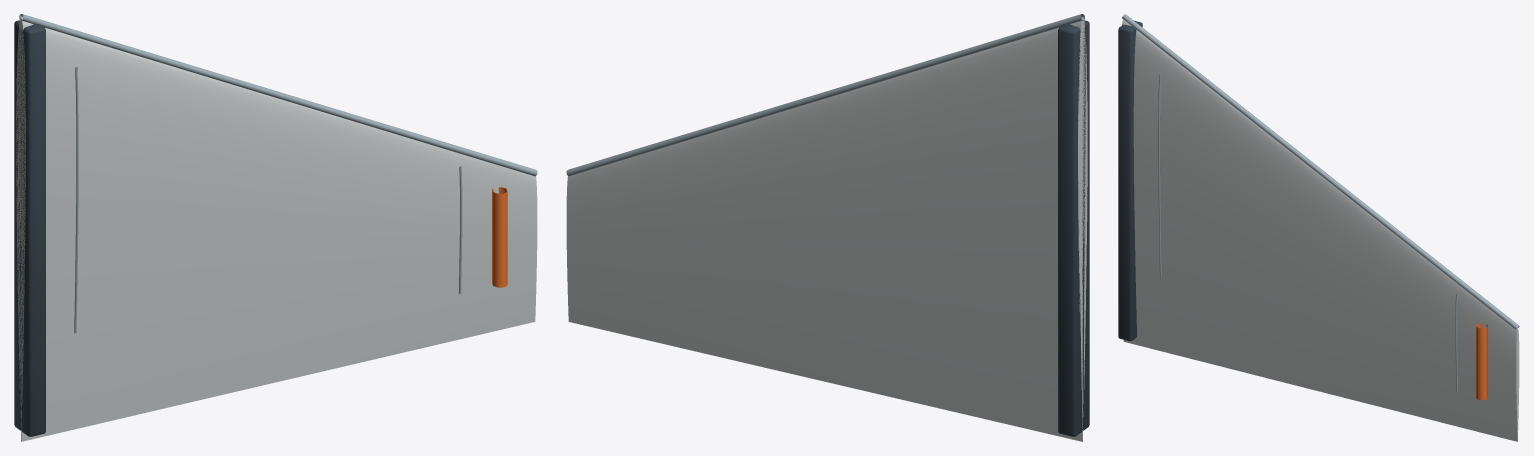
File: wing.glb
3 renders of one model, left to right at view 1: azimuth 30°, elevation 25°; view 2: azimuth 150°, elevation 25°; view 3: azimuth 330°, elevation 25°, orthographic. The views are drawn at different scales.
Parts seen in each view (by area): view 1: Tapered airfoil; view 2: Tapered airfoil; view 3: Tapered airfoil.
Part boxes in pixels (box(x1,y1,x2,y2)): Tapered airfoil: box(14, 14, 537, 441); Tapered airfoil: box(566, 14, 1089, 441); Tapered airfoil: box(1118, 14, 1519, 441).
Size of the model in its own units: 2 by 1.6 by 0.12.
